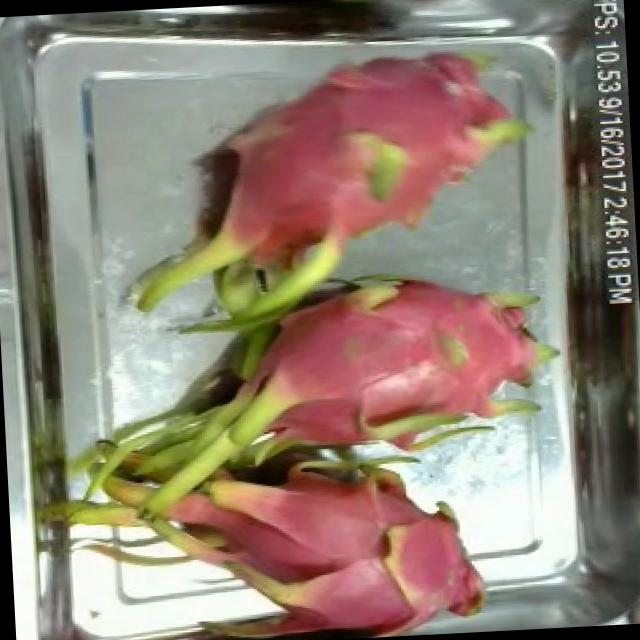Fruit: (367, 492, 500, 636)
